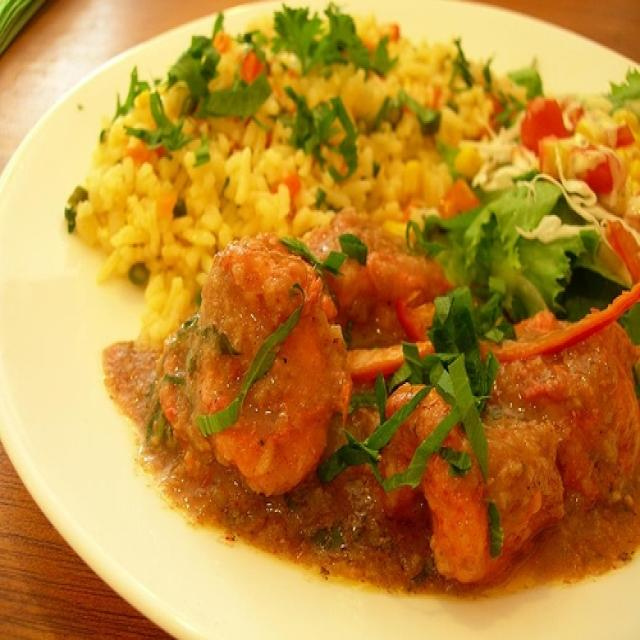米饭主食: (12, 11, 634, 632)
